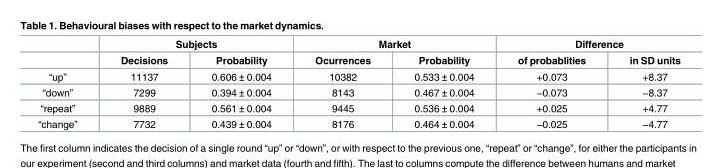table: (37, 37, 679, 129)
table column: (495, 37, 606, 129), (188, 37, 292, 129), (391, 37, 495, 129), (292, 37, 391, 129), (98, 37, 188, 129), (606, 37, 679, 129), (37, 37, 98, 129)
table column header: (37, 37, 679, 67)
table row: (37, 67, 679, 84), (37, 51, 679, 67), (37, 99, 679, 115), (37, 84, 679, 99), (37, 37, 679, 51), (37, 115, 679, 129)
table spanning cell: (292, 37, 495, 51), (98, 37, 292, 51), (495, 37, 679, 51)
